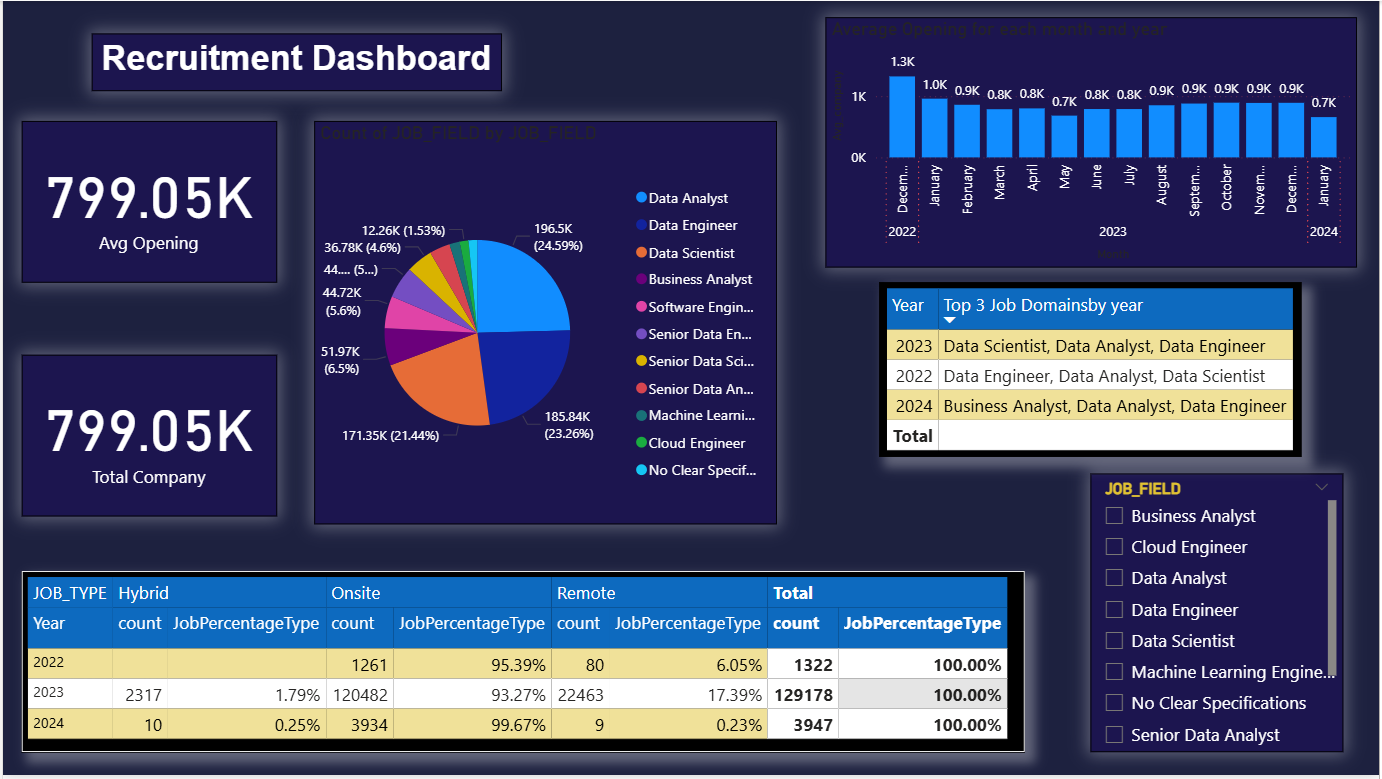

The dashboard page shown, as its layout file describes it:
{"tool":"powerbi","page":{"name":"Page 1","canvas":[1280,720],"ordinal":0},"visuals":[{"type":"slicer","fields":{"Values":["job_postings1.JOB_FIELD"]},"box":[1011.6,439.5,234.9,259.3],"z":0},{"type":"textbox","box":[82.6,30.2,381.4,53.5],"z":1000},{"type":"card","fields":{"Values":["job_postings1.Avg Opening"]},"box":[17.4,111.6,237.2,150],"z":2000},{"type":"pieChart","fields":{"Category":["job_postings1.JOB_FIELD"],"Y":["CountNonNull(job_postings1.JOB_FIELD)"]},"box":[289.5,111.6,430.2,375.6],"z":3000},{"type":"columnChart","title":"Average Opening for each month and year","fields":{"Category":["job_postings1.Month_year.Variation.Date Hierarchy.Year","job_postings1.Month_year.Variation.Date Hierarchy.Month"],"Y":["job_postings1.Avg_company"]},"box":[765.1,15.1,494.2,232.6],"z":4000},{"type":"card","title":"dddd","fields":{"Values":["CountNonNull(job_postings1.COMPANY_NAME)"]},"box":[17.4,329.1,237.2,150],"z":5000},{"type":"pivotTable","fields":{"Rows":["job_postings1.JOB_POSTING_DATE.Variation.Date Hierarchy.Year"],"Columns":["job_postings1.JOB_TYPE"],"Values":["job_postings1.count","job_postings1.JobPercentageType"]},"box":[17.4,530.2,932.6,168.6],"z":6000},{"type":"tableEx","fields":{"Values":["job_postings1.JOB_POSTING_DATE.Variation.Date Hierarchy.Year","job_postings1.Top 3 Job Domainsby year"]},"box":[815.1,261.6,393,162.8],"z":7000}]}

Visuals, with their boxes in screenshot pixels (x1, y1, x2, y2), scaled from the page's 1280x720 canvas onto the 1382x779 screenshot:
slicer - job_postings1.JOB_FIELD: [1092,476,1346,756]
textbox: [89,33,501,91]
card - job_postings1.Avg Opening: [19,121,275,283]
pieChart - job_postings1.JOB_FIELD x CountNonNull(job_postings1.JOB_FIELD): [313,121,777,527]
"Average Opening for each month and year" columnChart: [826,16,1360,268]
"dddd" card: [19,356,275,518]
pivotTable - job_postings1.JOB_POSTING_DATE.Variation.Date Hierarchy.Year x job_postings1.JOB_TYPE: [19,574,1026,756]
tableEx - job_postings1.JOB_POSTING_DATE.Variation.Date Hierarchy.Year x job_postings1.Top 3 Job Domainsby year: [880,283,1304,459]
